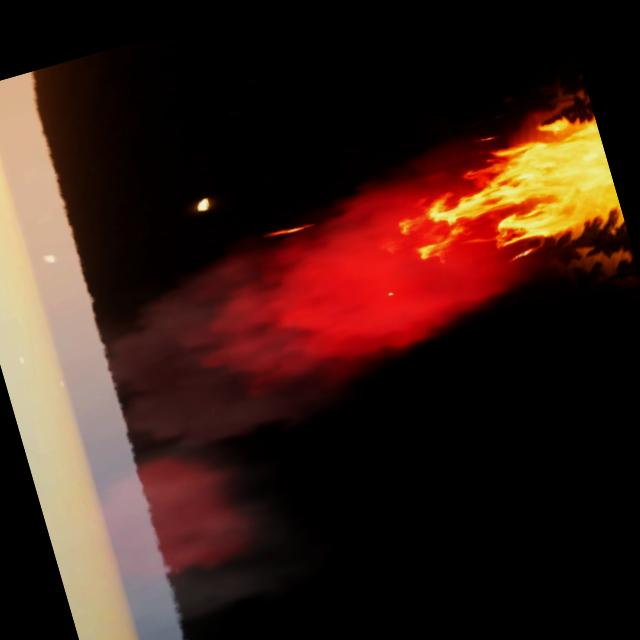fire: (384, 102, 626, 286)
smoke: (74, 135, 536, 462), (124, 418, 321, 624)
